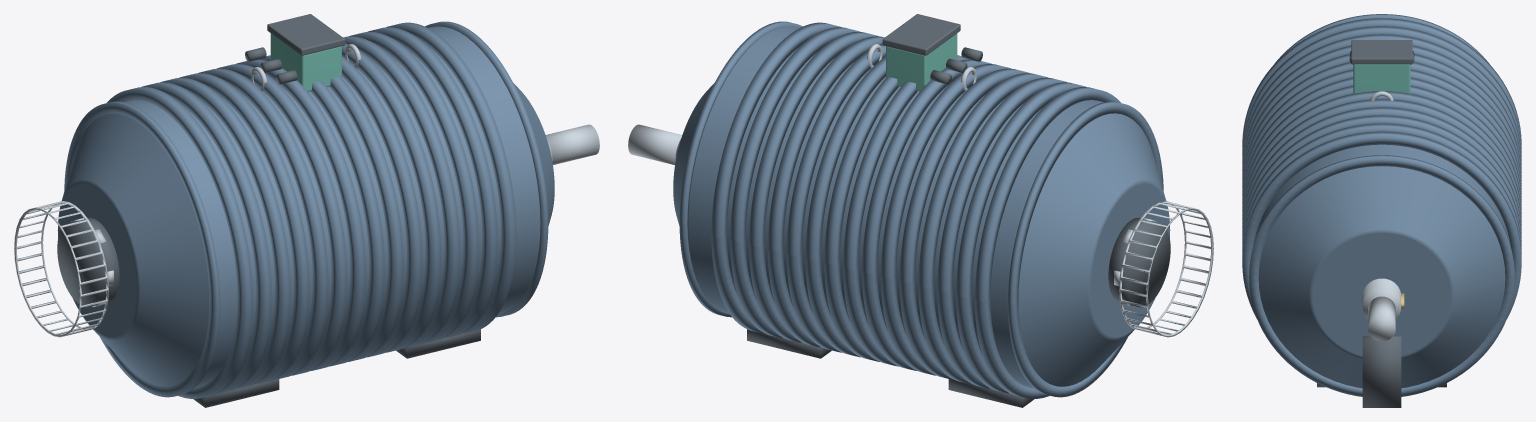
File: marine_motor.glb
The picture shows the model from 3 angles, left to right: view 1: azimuth 30°, elevation 25°; view 2: azimuth 150°, elevation 25°; view 3: azimuth 270°, elevation 25°; orthographic projection. The views are drawn at different scales.
Parts seen in each view (by area): view 1: Motor_Frame, End_Bell_Rear, Cooling_Rib_1, Cooling_Rib_5, Cooling_Rib_14, Cooling_Rib_15, Cooling_Rib_3, Cooling_Rib_4, Cooling_Rib_2, Cooling_Rib_13, End_Bell_Rear_Rim, Cooling_Rib_12 (+15 smaller); view 2: Motor_Frame, End_Bell_Rear, Cooling_Rib_1, Cooling_Rib_5, Cooling_Rib_14, Cooling_Rib_15, Cooling_Rib_3, Cooling_Rib_4, Cooling_Rib_2, Cooling_Rib_13, End_Bell_Rear_Rim, Cooling_Rib_12 (+15 smaller); view 3: End_Bell_Front, End_Bell_Front_Rim, Cooling_Rib_15, Support_Bracket, Motor_Frame, Cooling_Rib_13, Cooling_Rib_12, Cooling_Rib_1, Cooling_Rib_2, Cooling_Rib_14, Cooling_Rib_11, Cooling_Rib_10 (+12 smaller).
Boxes of the visible parts, bbox=[...] form: Motor_Frame: bbox=[124, 26, 540, 388]; End_Bell_Rear: bbox=[57, 113, 209, 386]; Cooling_Rib_1: bbox=[107, 87, 252, 398]; Cooling_Rib_5: bbox=[198, 68, 328, 379]; Cooling_Rib_14: bbox=[367, 27, 497, 338]; Cooling_Rib_15: bbox=[386, 22, 516, 333]; Cooling_Rib_3: bbox=[160, 77, 290, 388]; Cooling_Rib_4: bbox=[179, 73, 309, 384]; Cooling_Rib_2: bbox=[142, 82, 271, 393]; Cooling_Rib_13: bbox=[348, 32, 478, 342]; End_Bell_Rear_Rim: bbox=[64, 101, 220, 397]; Cooling_Rib_12: bbox=[343, 36, 459, 347]; Motor_Frame: bbox=[687, 26, 1103, 388]; End_Bell_Rear: bbox=[1018, 113, 1170, 386]; Cooling_Rib_1: bbox=[975, 87, 1120, 398]; Cooling_Rib_5: bbox=[899, 68, 1029, 379]; Cooling_Rib_14: bbox=[730, 27, 860, 338]; Cooling_Rib_15: bbox=[711, 22, 841, 333]; Cooling_Rib_3: bbox=[937, 77, 1067, 388]; Cooling_Rib_4: bbox=[918, 73, 1048, 384]; Cooling_Rib_2: bbox=[956, 82, 1085, 393]; Cooling_Rib_13: bbox=[749, 32, 879, 342]; End_Bell_Rear_Rim: bbox=[1007, 101, 1163, 397]; Cooling_Rib_12: bbox=[768, 36, 884, 347]; End_Bell_Front: bbox=[1258, 166, 1505, 388]; End_Bell_Front_Rim: bbox=[1249, 155, 1514, 396]; Cooling_Rib_15: bbox=[1242, 131, 1521, 319]; Support_Bracket: bbox=[1362, 336, 1401, 407]; Motor_Frame: bbox=[1253, 144, 1510, 244]; Cooling_Rib_13: bbox=[1242, 115, 1521, 243]; Cooling_Rib_12: bbox=[1242, 107, 1521, 235]; Cooling_Rib_1: bbox=[1242, 18, 1521, 146]; Cooling_Rib_2: bbox=[1242, 26, 1521, 154]; Cooling_Rib_14: bbox=[1242, 123, 1521, 252]; Cooling_Rib_11: bbox=[1242, 99, 1521, 227]; Cooling_Rib_10: bbox=[1242, 91, 1521, 219].
Bounding box in the file's own units: 4.05 × 2.28 × 2.04.
